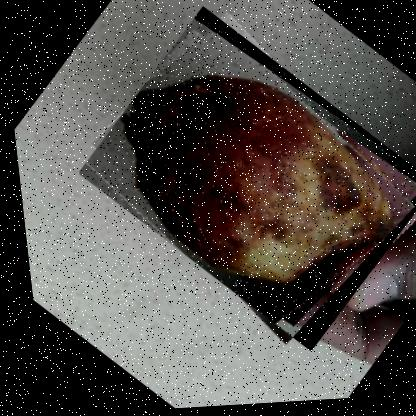guava_rotten: (58, 0, 415, 364)
